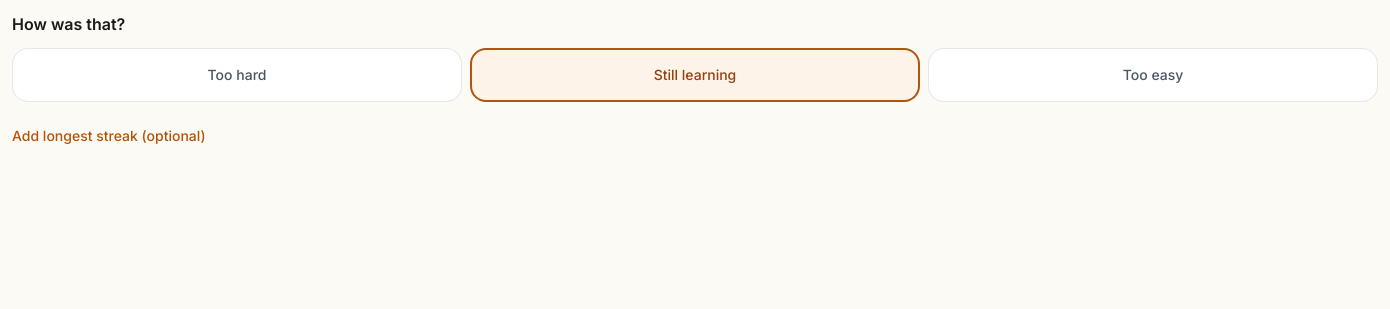
Test: PerDrillCapture captureShape: streak (Phase 2A — D134) › shows inline correction text and commits null when the value is invalid (non-integer)
The image size is (1390, 309).
Click the button with test id "per-drill-add-streak".
click(109, 136)  # box x1=12 y1=114 x2=206 y2=158
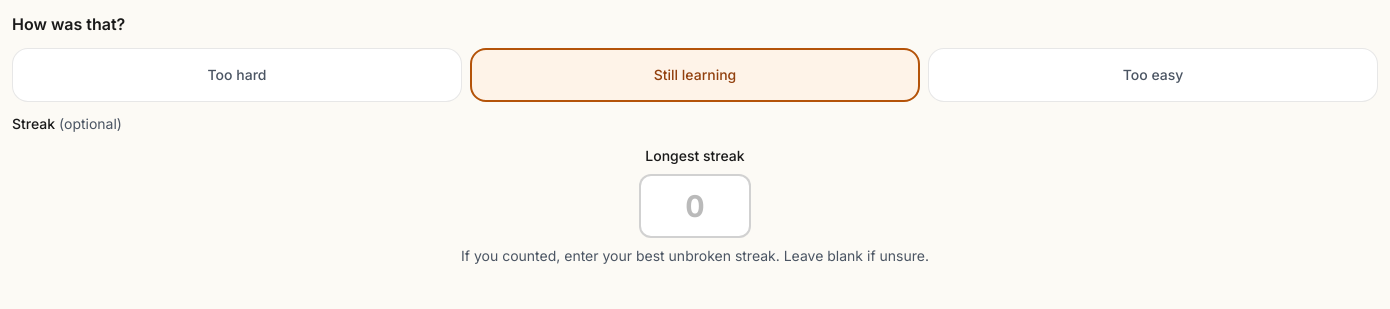
Type "1.5" into the field with test id "per-drill-streak-input".
click(695, 206); type("1.5")  # box x1=639 y1=174 x2=751 y2=238
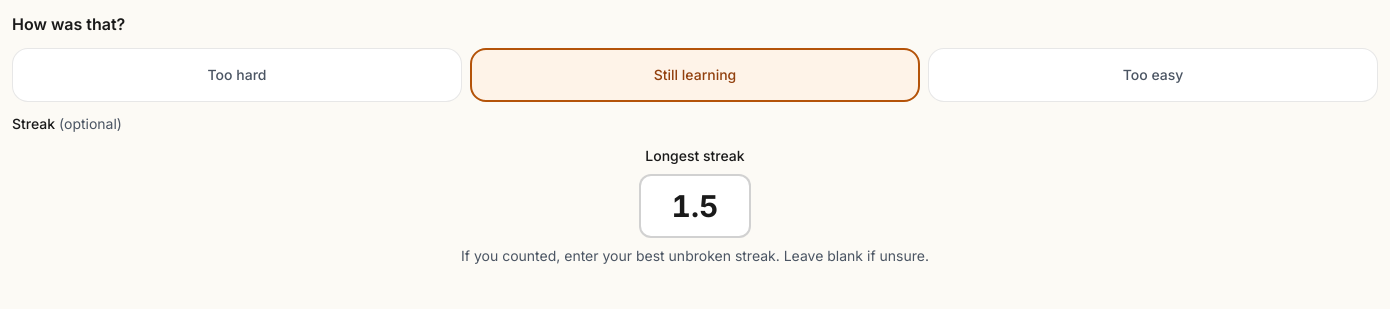
Leave the field with test id "per-drill-streak-input", box x1=639 y1=174 x2=751 y2=238
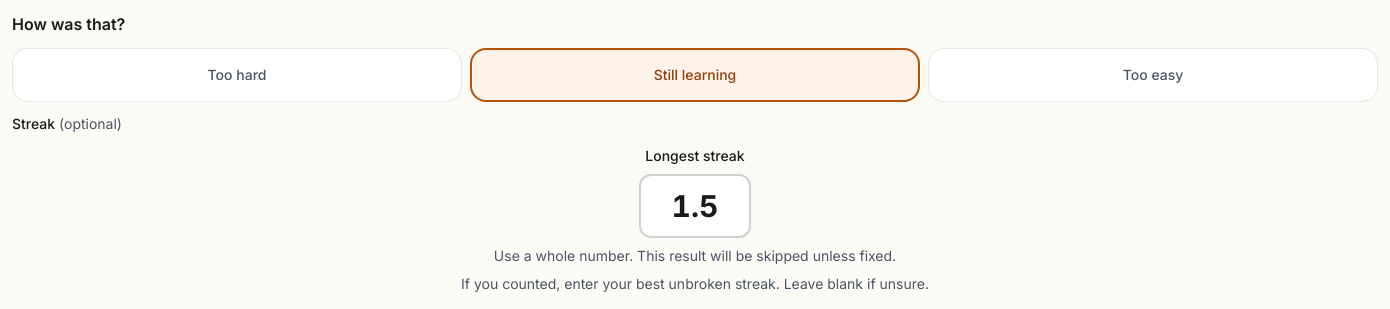
Expected: the text "Use a whole number. This result will be skipped unless fixed." is shown, x1=494 y1=246 x2=896 y2=266
